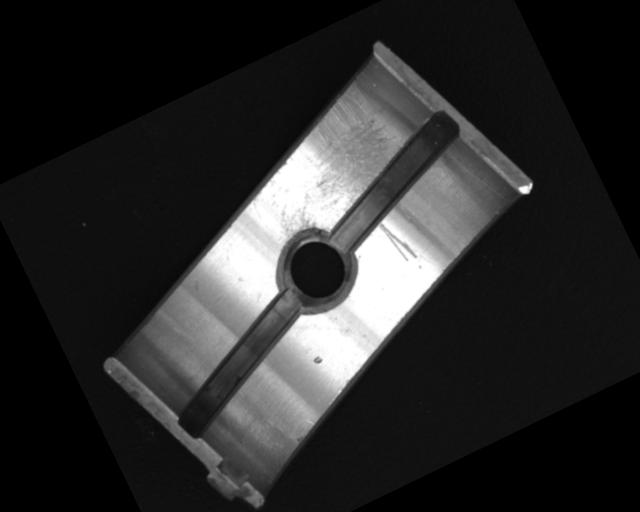bruise: (309, 352, 324, 366)
gap: (148, 284, 336, 440), (303, 106, 487, 256)
hole: (263, 216, 370, 321)
nick: (377, 213, 419, 267)
scratch: (229, 77, 413, 249)
